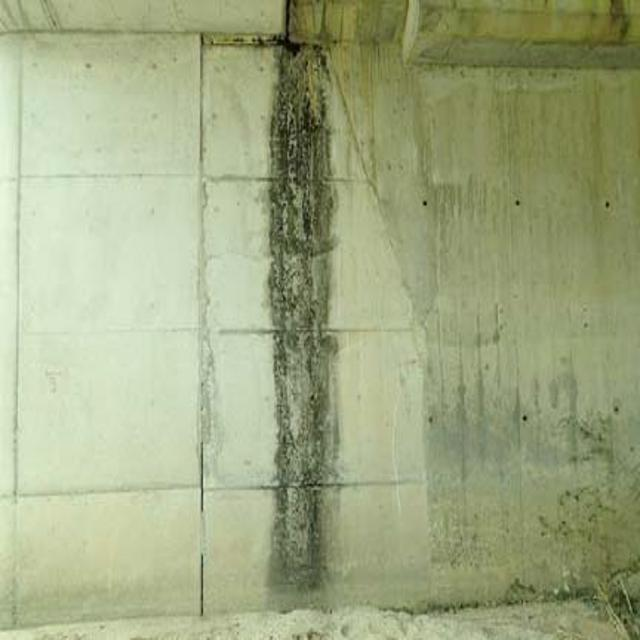leakage: (267, 38, 344, 640)
